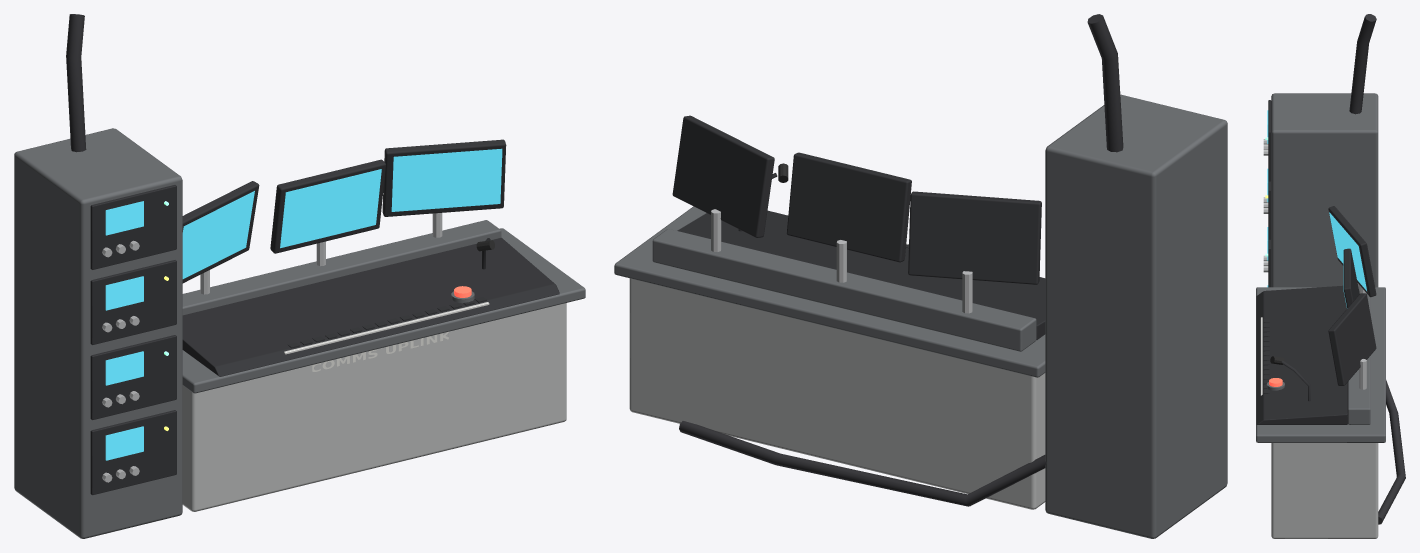
File: comms_console.glb
3 renders of one model, left to right at view 1: azimuth 30°, elevation 25°; view 2: azimuth 150°, elevation 25°; view 3: azimuth 270°, elevation 25°, orthographic. The views are drawn at different scales.
Visible parts, largest first — view 1: comms_console; view 2: comms_console; view 3: comms_console.
Boxes of the visible parts, x1,y1,x2,y2 form: comms_console: [14, 14, 585, 538]; comms_console: [614, 14, 1227, 538]; comms_console: [1256, 14, 1405, 538].
Bounding box in the file's own units: 2.9 × 2.64 × 0.9798.
12 materials, 1 textured.
